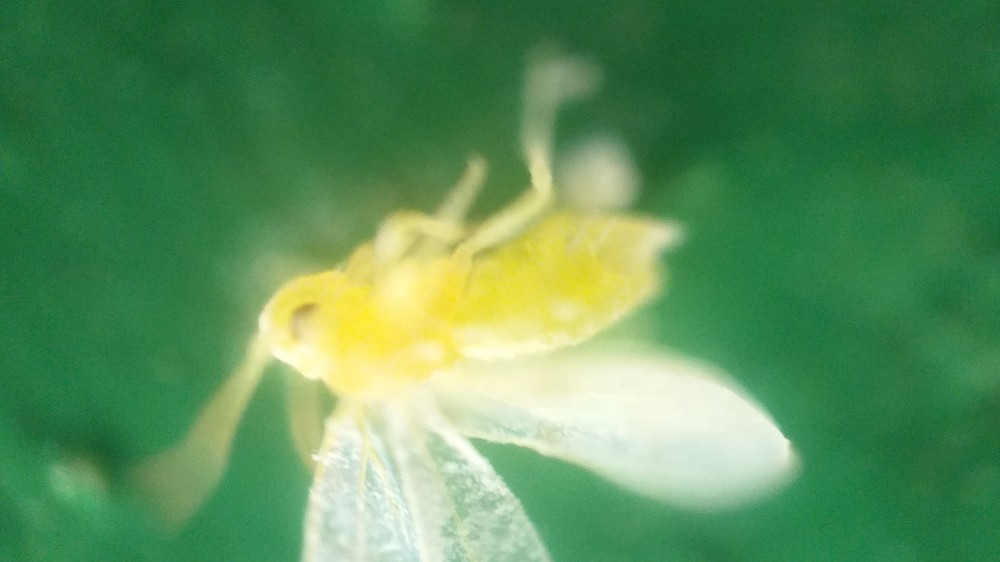Mosca Blanca: (150, 64, 809, 562)
